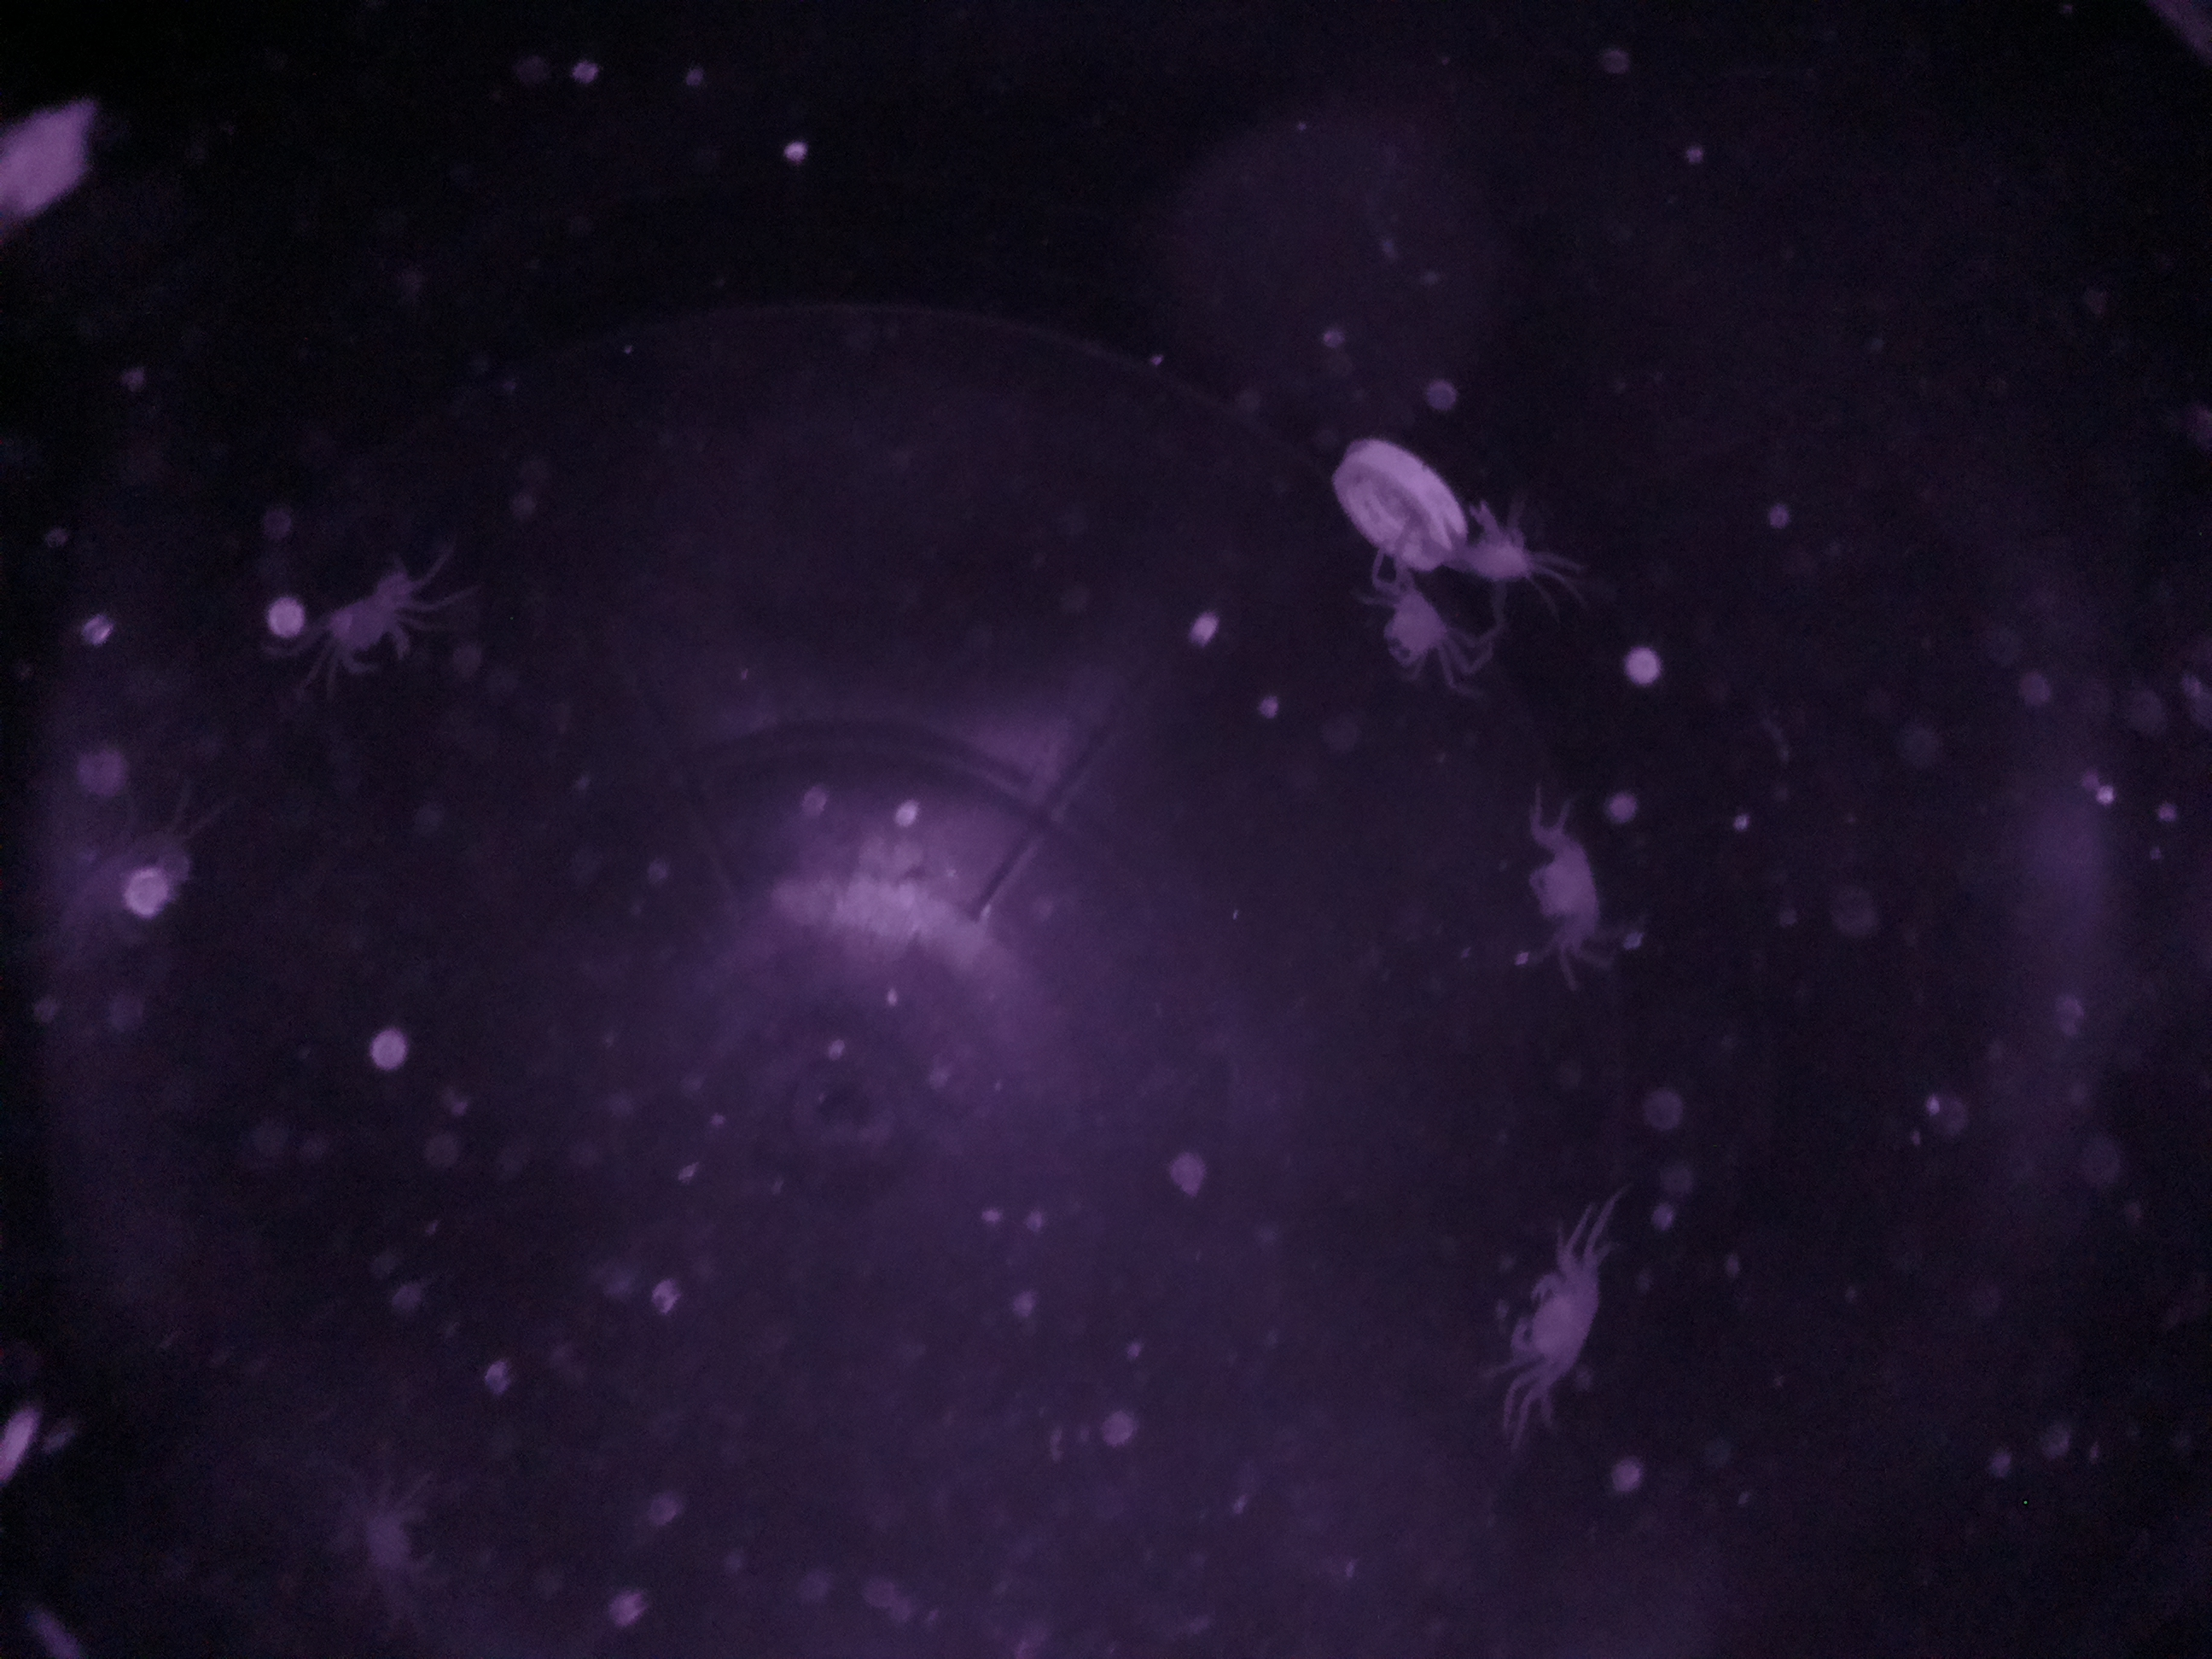Crab: (1491, 1244, 1623, 1424), (310, 552, 430, 709), (1505, 819, 1616, 974), (1341, 577, 1467, 704)
